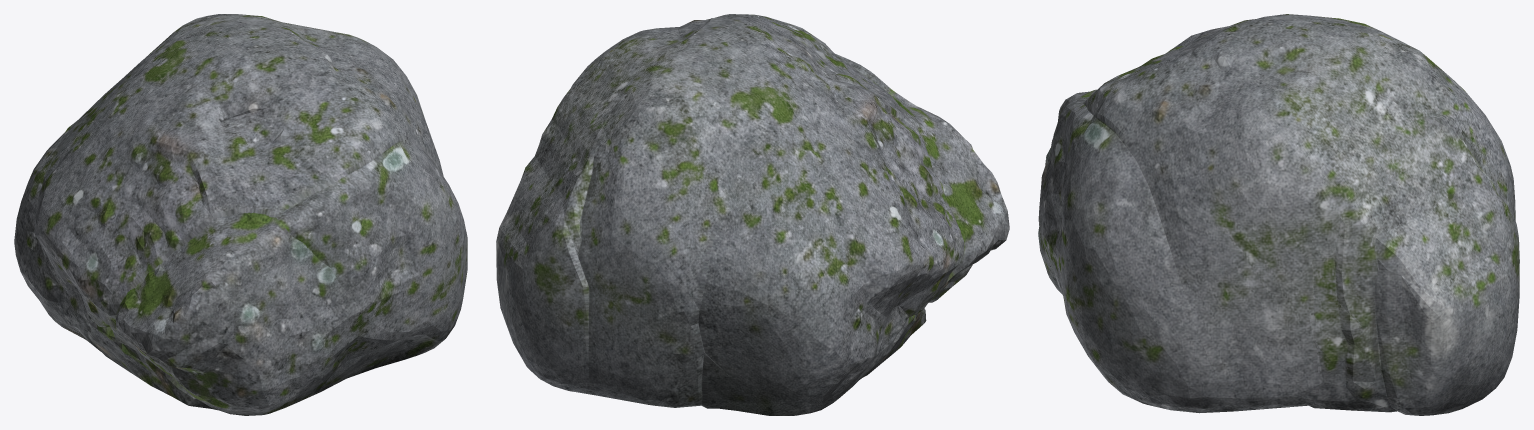
The model's file is rock_a.fbx.
3 views of the same model, side by side, from view 1: azimuth 30°, elevation 25°; view 2: azimuth 150°, elevation 25°; view 3: azimuth 270°, elevation 25° (orthographic). The views are drawn at different scales.
Visible parts, largest first — view 1: Mesh_0; view 2: Mesh_0; view 3: Mesh_0.
Boxes of the visible parts, box(x1,y1,x2,y2) form: Mesh_0: box(14, 14, 467, 415); Mesh_0: box(496, 14, 1009, 415); Mesh_0: box(1038, 14, 1519, 415).
Bounding box in the file's own units: 2.72 × 2.2 × 2.88.
Materials: 1 (1 with a texture image).
